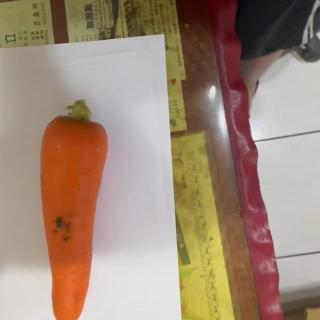carrot: (40, 100, 109, 320)
